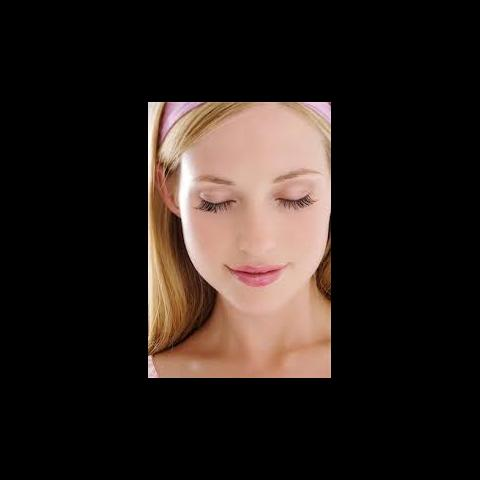closed: (188, 169, 328, 218)
